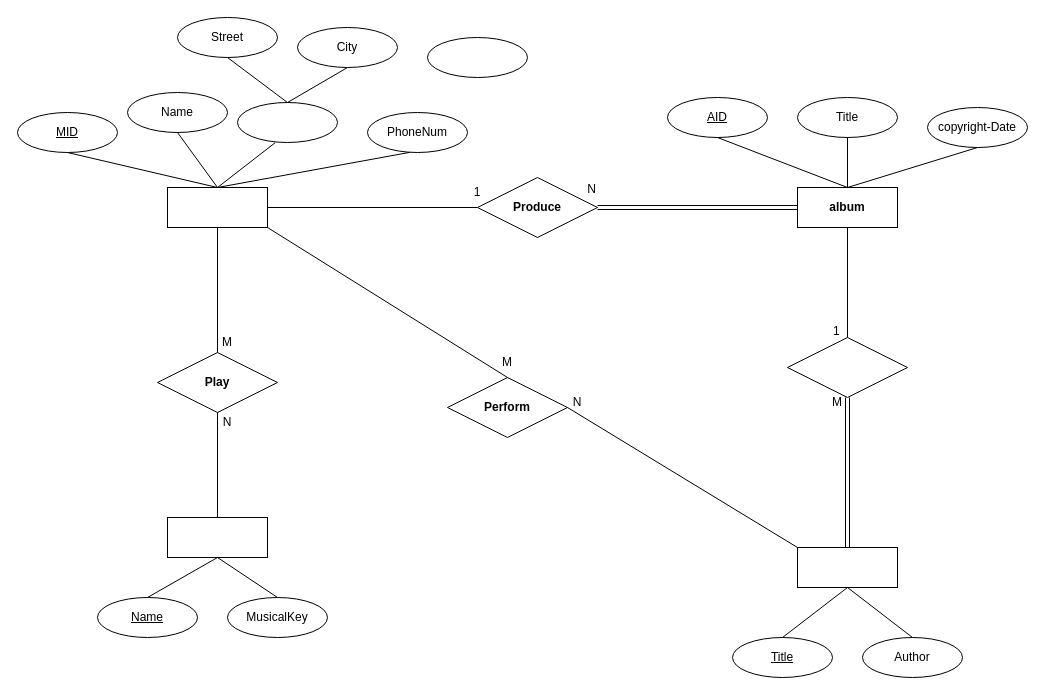
Some shapes in this 1045 by 695 pixel diagram are drawn without their labels. Here are the shapes that lost their labels. From the top down, the centre of each, then its label:
the point at 477,57: Attribute
the point at 287,122: Address
the point at 217,207: Musician
the point at 847,367: has
the point at 217,537: instrument
the point at 847,567: song
